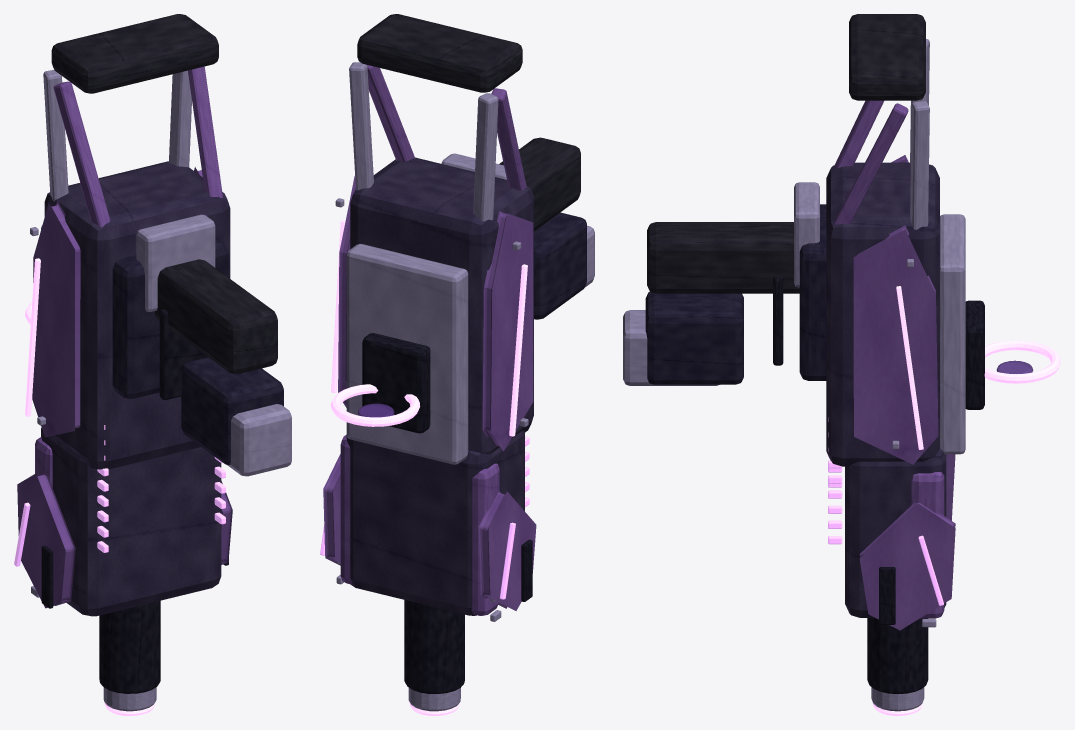
The model's file is aether-s9-midnight.glb.
3 views of the same model, side by side, from view 1: azimuth 30°, elevation 25°; view 2: azimuth 150°, elevation 25°; view 3: azimuth 270°, elevation 25° (orthographic).
Parts seen in each view (by area): view 1: S9 / compact angular forebody, 01 / central monocoque, 06 / sculpted receiver cheek-1, 04 / pistol grip, S9 / folding butt, S9 / grip lower cell, 03 / matte lower receiver, S9 / recessed emitter housing, S9 / faceted cowl -1, 05 / rear handle ferrule, S9 / short magazine, S9 / floating rear strut -1 (+9 smaller); view 2: S9 / compact angular forebody, 02 / receiver crown, 01 / central monocoque, 06 / sculpted receiver cheek-1, S9 / folding butt, S9 / recessed emitter housing, S9 / optic base, S9 / grip lower cell, S9 / faceted cowl -1, 04 / pistol grip, S9 / forward ceramic wings, S9 / skeleton stock top -1 (+13 smaller); view 3: 06 / sculpted receiver cheek1, 01 / central monocoque, 04 / pistol grip, S9 / grip lower cell, S9 / faceted cowl 1, S9 / compact angular forebody, S9 / folding butt, 02 / receiver crown, S9 / recessed emitter housing, 03 / matte lower receiver, S9 / skeleton stock top 1, S9 / optic base (+10 smaller).
Boxes of the visible parts, x1,y1,x2,y2 form: S9 / compact angular forebody: (41,427,221,616); 01 / central monocoque: (44,161,230,469); 06 / sculpted receiver cheek-1: (32,200,80,437); 04 / pistol grip: (155,259,277,373); S9 / folding butt: (51,14,218,93); S9 / grip lower cell: (181,357,283,464); 03 / matte lower receiver: (112,237,229,398); S9 / recessed emitter housing: (99,600,160,693); S9 / faceted cowl -1: (17,473,75,608); 05 / rear handle ferrule: (136,214,215,311); S9 / short magazine: (227,404,291,476); S9 / floating rear strut -1: (53,81,110,227); S9 / compact angular forebody: (346,431,524,615); 02 / receiver crown: (346,244,468,464); 01 / central monocoque: (350,157,533,454); 06 / sculpted receiver cheek-1: (482,211,533,451); S9 / folding butt: (357,14,522,92); S9 / recessed emitter housing: (404,600,464,693); S9 / optic base: (362,333,430,433); S9 / grip lower cell: (534,212,586,319); S9 / faceted cowl -1: (478,491,536,610); 04 / pistol grip: (499,137,580,231); S9 / forward ceramic wings: (340,434,499,615); S9 / skeleton stock top -1: (473,93,498,221); 06 / sculpted receiver cheek1: (853,225,938,464); 01 / central monocoque: (826,162,939,466); 04 / pistol grip: (647,222,799,293); S9 / grip lower cell: (645,291,743,384); S9 / faceted cowl 1: (859,502,955,630); S9 / compact angular forebody: (845,449,946,617); S9 / folding butt: (849,14,925,100); 02 / receiver crown: (940,214,965,454); S9 / recessed emitter housing: (867,618,928,694); 03 / matte lower receiver: (799,204,826,380); S9 / skeleton stock top 1: (910,101,929,229); S9 / optic base: (965,300,984,409).
Bounding box in the file's own units: 0.5125 × 1.75 × 1.05.
Materials: 9 (9 with a texture image).
